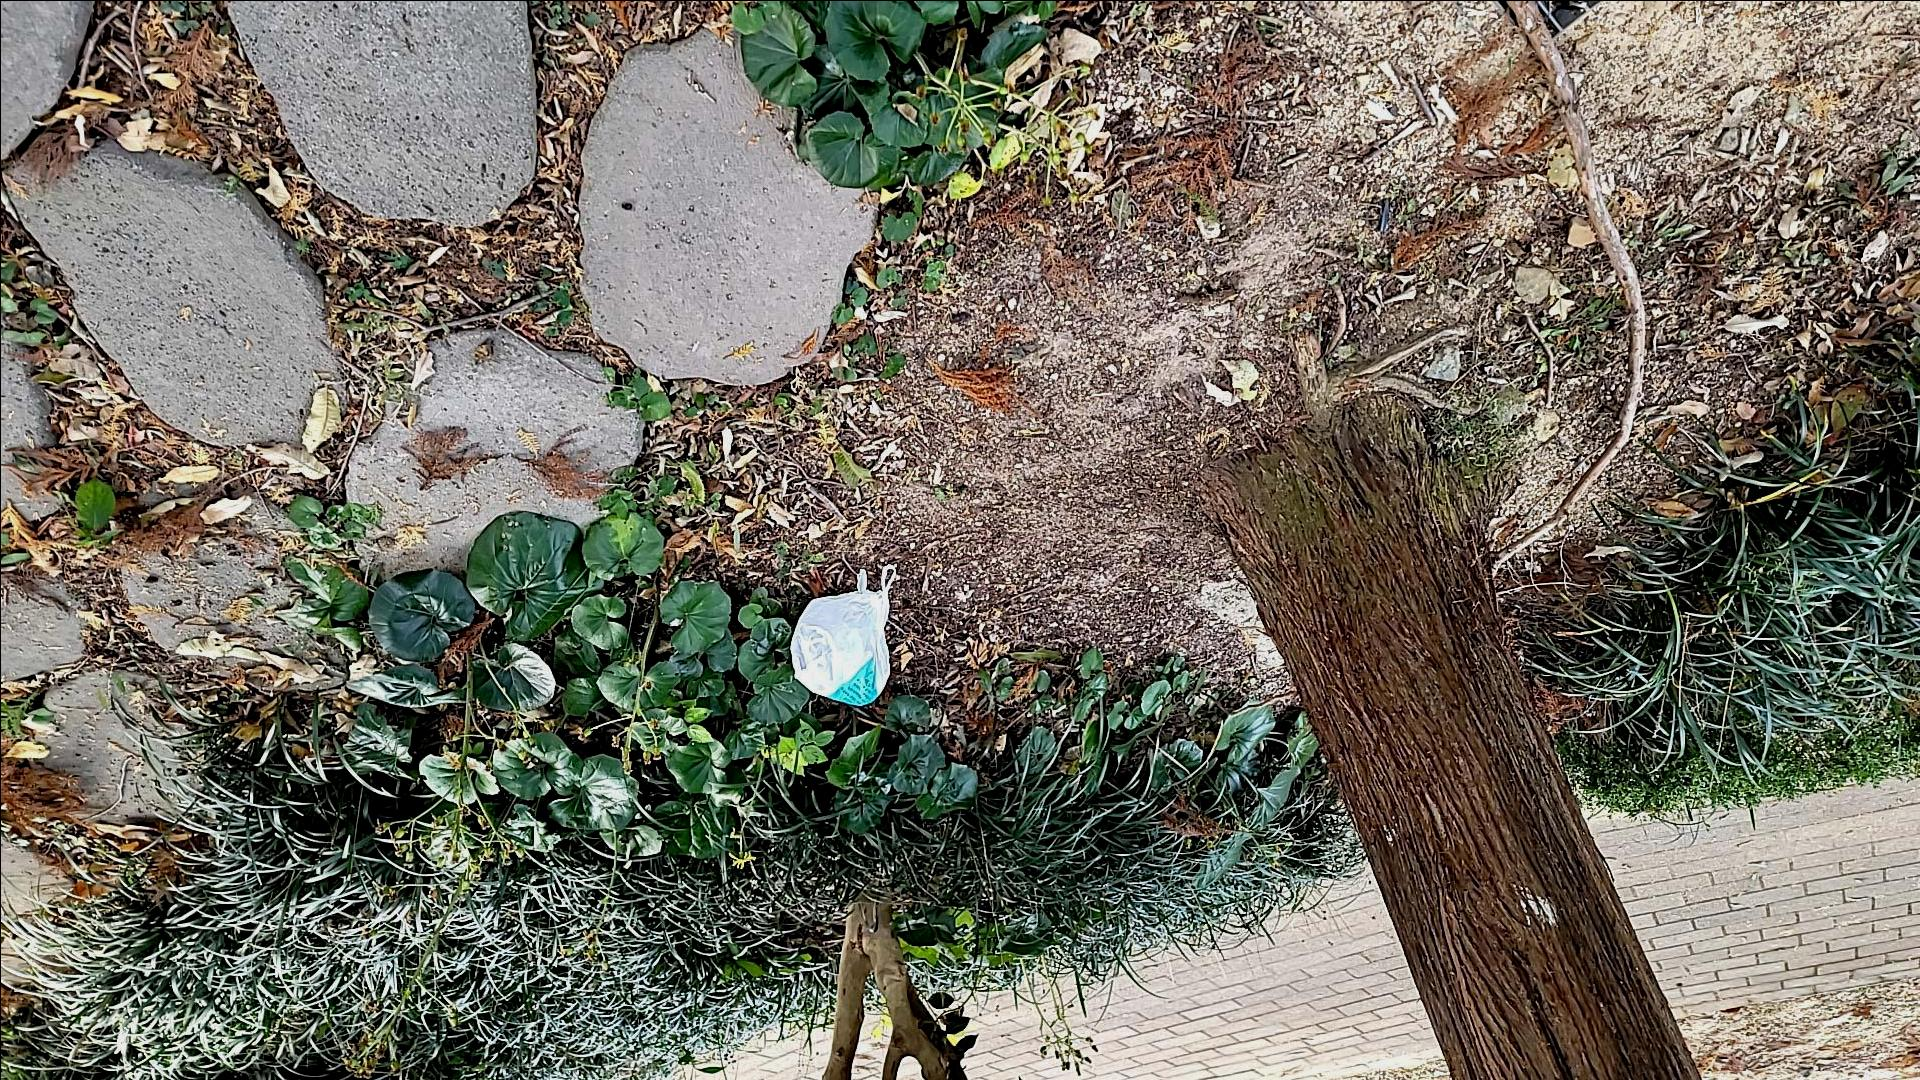white_bag: (785, 558, 909, 713)
